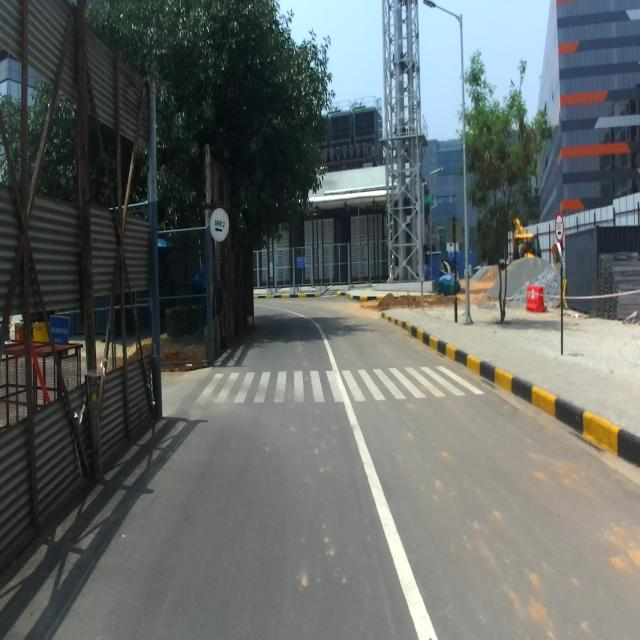sign board ahead at: (208, 202, 235, 248)
zebra crossing ahead at: (176, 353, 490, 408)
